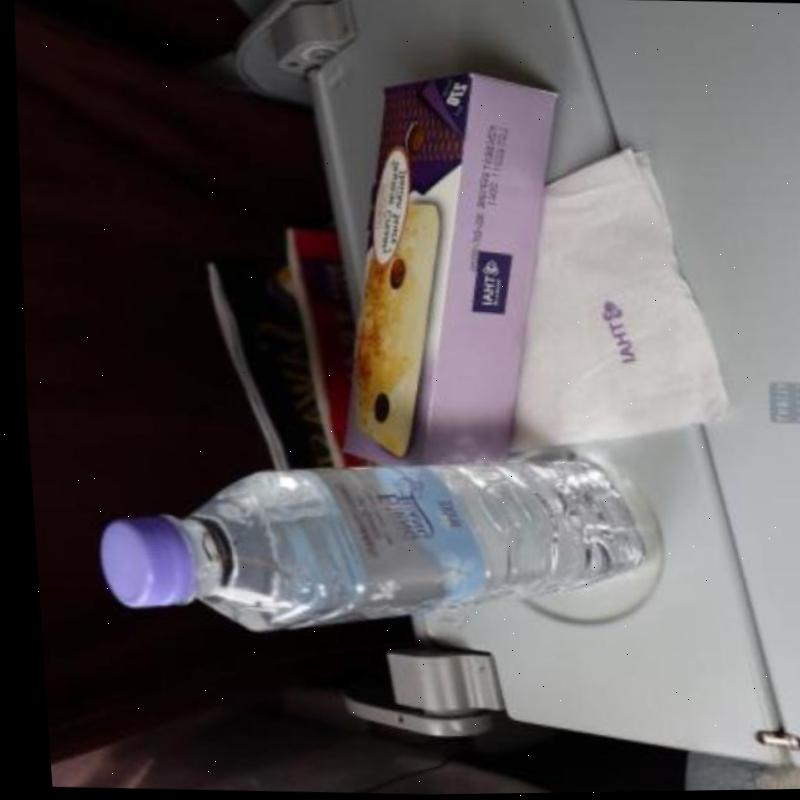botella: (83, 443, 645, 651)
